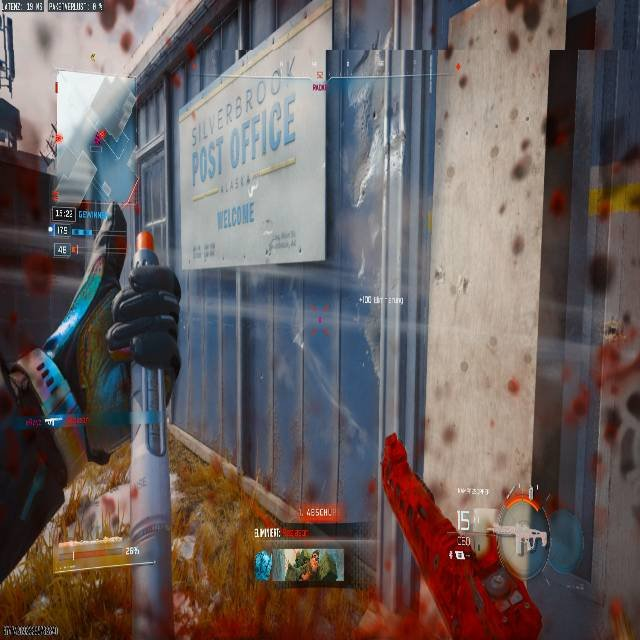head: (128, 264, 182, 303)
player: (28, 251, 183, 639), (89, 263, 181, 454)
